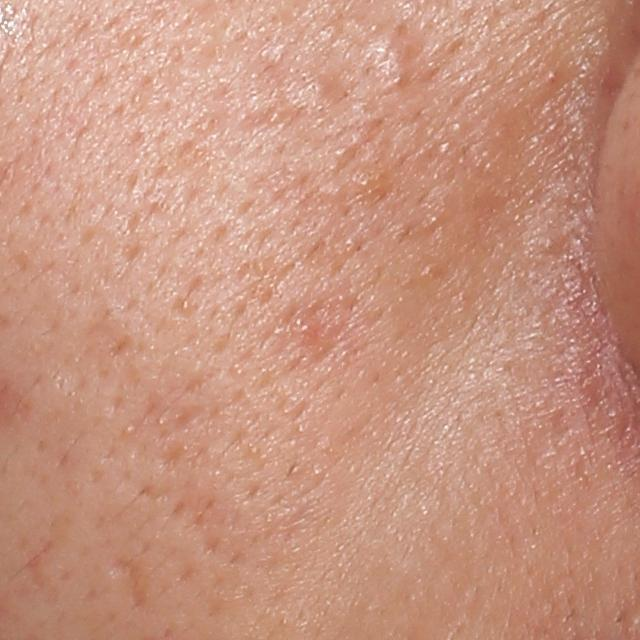atrophic_scar: (108, 556, 153, 621), (150, 436, 189, 478)
